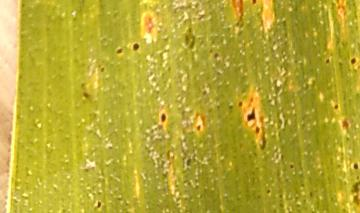tarspot: (130, 39, 142, 56), (113, 45, 126, 57), (94, 198, 105, 212), (159, 111, 169, 126), (245, 106, 255, 121), (350, 160, 360, 173), (348, 55, 359, 66), (252, 124, 263, 135), (322, 56, 334, 66), (194, 123, 204, 133), (98, 65, 108, 75), (236, 98, 246, 108), (332, 101, 341, 112), (287, 161, 297, 170), (250, 1, 259, 6)
